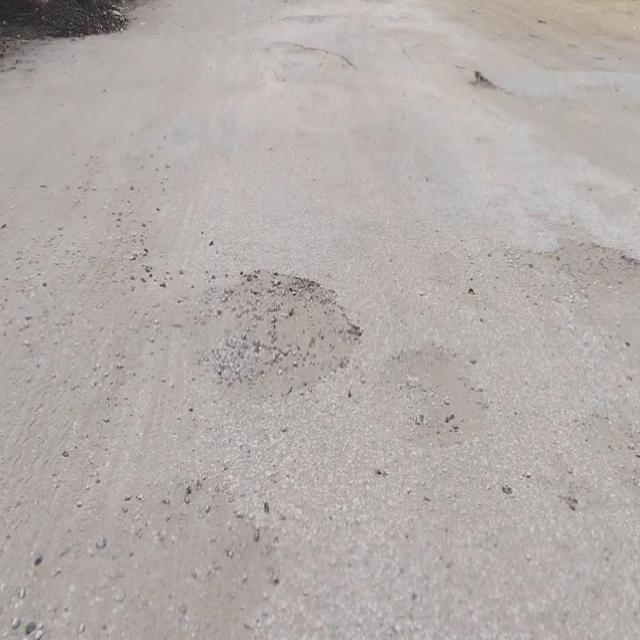Potholes: (200, 262, 366, 408)
